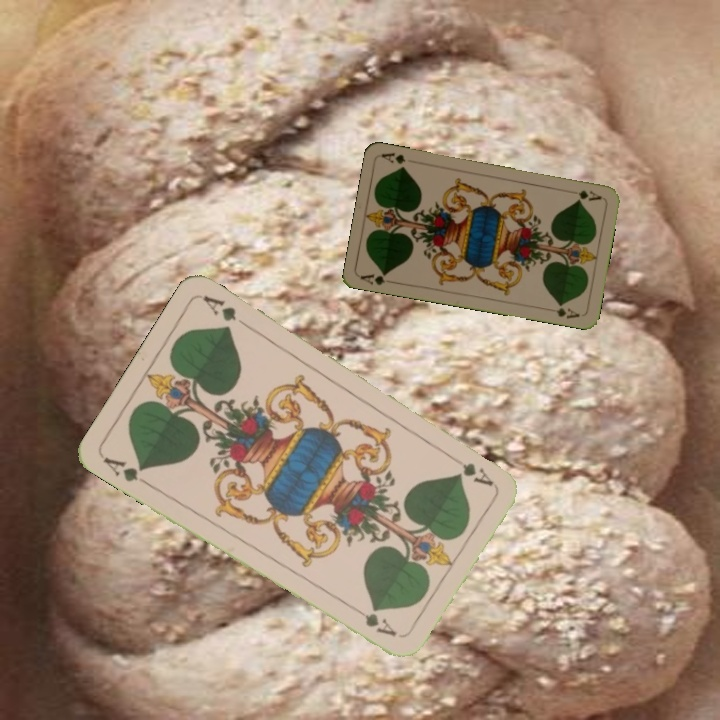GA: (443, 450, 496, 489), (98, 453, 153, 489), (357, 269, 398, 288), (564, 186, 604, 203)
